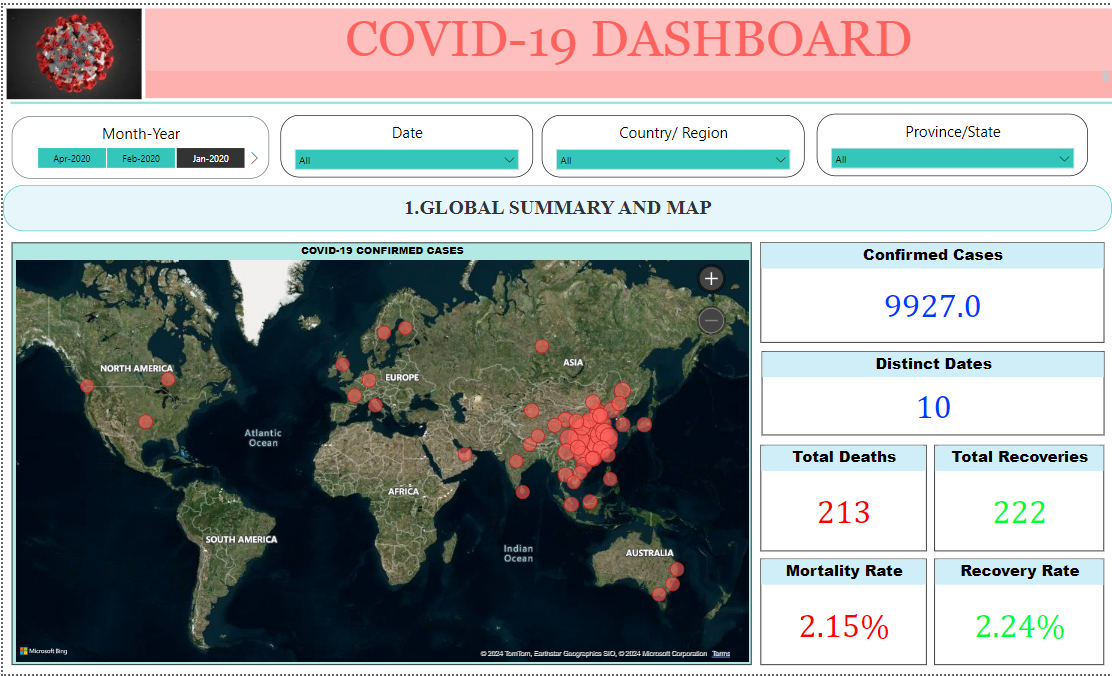

The dashboard page shown, as its layout file describes it:
{"tool":"powerbi","page":{"name":"Page 1","canvas":[1479,892],"ordinal":0},"visuals":[{"type":"basicShape","box":[0,119.3,1490,20.8],"z":0},{"type":"image","box":[0,0,190.1,130.4],"z":1000},{"type":"textbox","title":"COVID-19 DASHBOARD","box":[190.1,5.5,1288.8,119.3],"z":2000},{"type":"slicer","title":"Month-Year","fields":{"Values":["CoronaVirus PowerBI Raw (2).Month-Year"]},"box":[11.7,148.3,343.3,83.3],"z":3000},{"type":"slicer","title":"Country/ Region","fields":{"Values":["CoronaVirus PowerBI Raw (2).Country/Region"]},"box":[718.3,146.7,350,83.3],"z":4000},{"type":"slicer","title":"Province/State","fields":{"Values":["CoronaVirus PowerBI Raw (2).Province/State"]},"box":[1085,145,361.7,83.3],"z":5000},{"type":"slicer","title":"Date","fields":{"Values":["CoronaVirus PowerBI Raw (2).Date"]},"box":[370,146.7,336.7,83.3],"z":6000},{"type":"card","title":"Distinct Dates","fields":{"Values":["Count(CoronaVirus PowerBI Raw (2).Date)"]},"box":[1011.7,461.7,456.7,111.7],"z":7000},{"type":"textbox","title":"1.GLOBAL SUMMARY AND MAP","box":[0,240,1478.3,61.7],"z":8000},{"type":"map","title":"COVID-19 CONFIRMED CASES","fields":{"Y":["CoronaVirus PowerBI Raw (2).Lat"],"X":["CoronaVirus PowerBI Raw (2).Long"],"Size":["Sum(CoronaVirus PowerBI Raw (2).Confirmed Daily)"]},"box":[11.7,316.7,986.7,563.3],"z":9000},{"type":"card","title":"Confirmed Cases","fields":{"Values":["Sum(CoronaVirus PowerBI Raw (2).Confirmed Daily)"]},"box":[1010,316.7,458.3,133.3],"z":10000},{"type":"card","title":"Total Recoveries","fields":{"Values":["Sum(CoronaVirus PowerBI Raw (2).Recovered Daily)"]},"box":[1241.7,586.7,226.7,141.7],"z":11000},{"type":"card","title":"Total Deaths","fields":{"Values":["Sum(CoronaVirus PowerBI Raw (2).Deaths Daily)"]},"box":[1010,586.7,221.7,141.7],"z":12000},{"type":"card","title":"Mortality Rate","fields":{"Values":["CoronaVirus PowerBI Raw (2).CFR"]},"box":[1010,738.3,221.7,141.7],"z":13000},{"type":"card","title":"Recovery Rate","fields":{"Values":["CoronaVirus PowerBI Raw (2).RR"]},"box":[1241.7,738.3,226.7,141.7],"z":14000}]}

Visuals, with their boxes in screenshot pixels (x1, y1, x2, y2), scaled from the page's 1479x892 canvas onto the 1112x676 screenshot:
basicShape: region(0, 90, 1111, 106)
image: region(0, 0, 143, 99)
"COVID-19 DASHBOARD" textbox: region(143, 4, 1111, 95)
"Month-Year" slicer: region(9, 112, 267, 176)
"Country/ Region" slicer: region(540, 111, 803, 174)
"Province/State" slicer: region(816, 110, 1088, 173)
"Date" slicer: region(278, 111, 531, 174)
"Distinct Dates" card: region(761, 350, 1104, 435)
"1.GLOBAL SUMMARY AND MAP" textbox: region(0, 182, 1111, 229)
"COVID-19 CONFIRMED CASES" map: region(9, 240, 751, 667)
"Confirmed Cases" card: region(759, 240, 1104, 341)
"Total Recoveries" card: region(934, 445, 1104, 552)
"Total Deaths" card: region(759, 445, 926, 552)
"Mortality Rate" card: region(759, 560, 926, 667)
"Recovery Rate" card: region(934, 560, 1104, 667)
